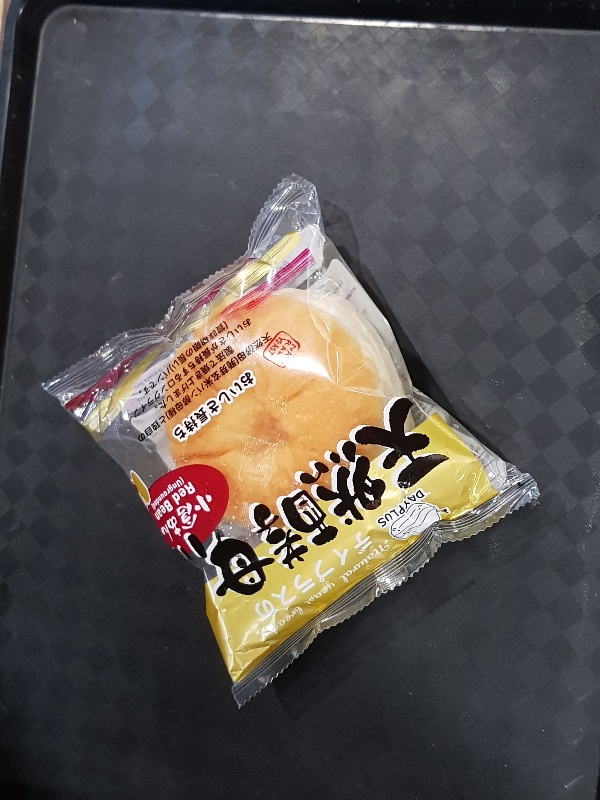Dayplus Red Bean: (40, 170, 539, 712)
